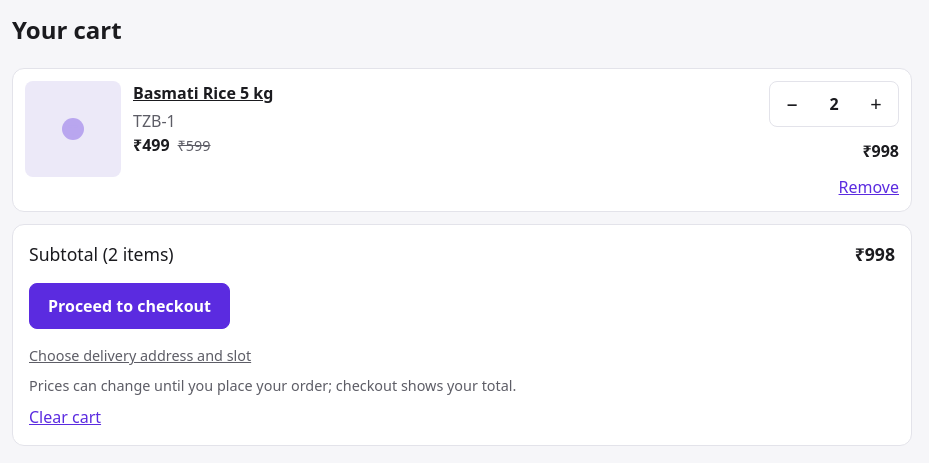
CartView changes › removes a line, announces it, and moves focus to the cart heading
This screenshot has width=929, height=463.
Click the button with aria-label "Remove Basmati Rice 5 kg from cart".
click(869, 187)  # box x1=838 y1=175 x2=899 y2=199
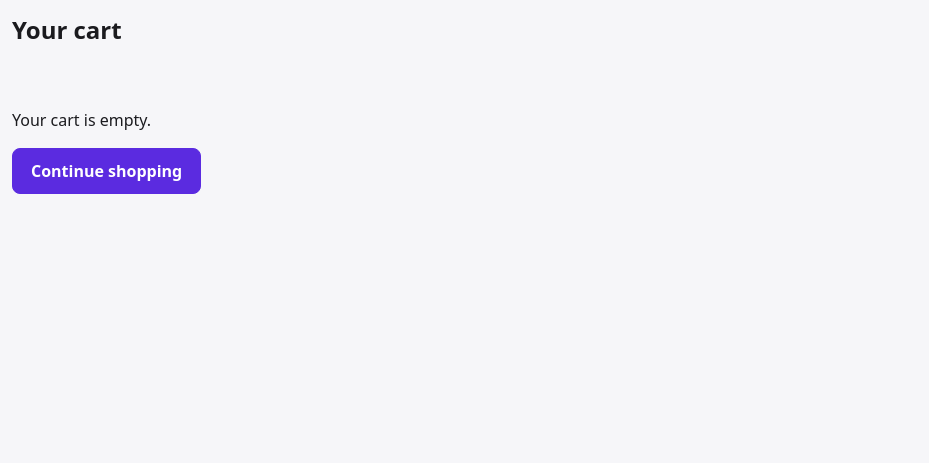
Check: the text "Your cart is empty." is shown, box x1=12 y1=109 x2=151 y2=131
